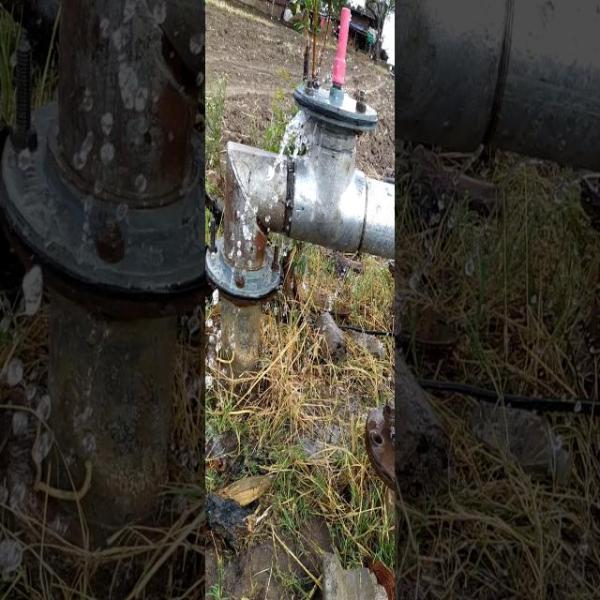water: (269, 88, 369, 222)
